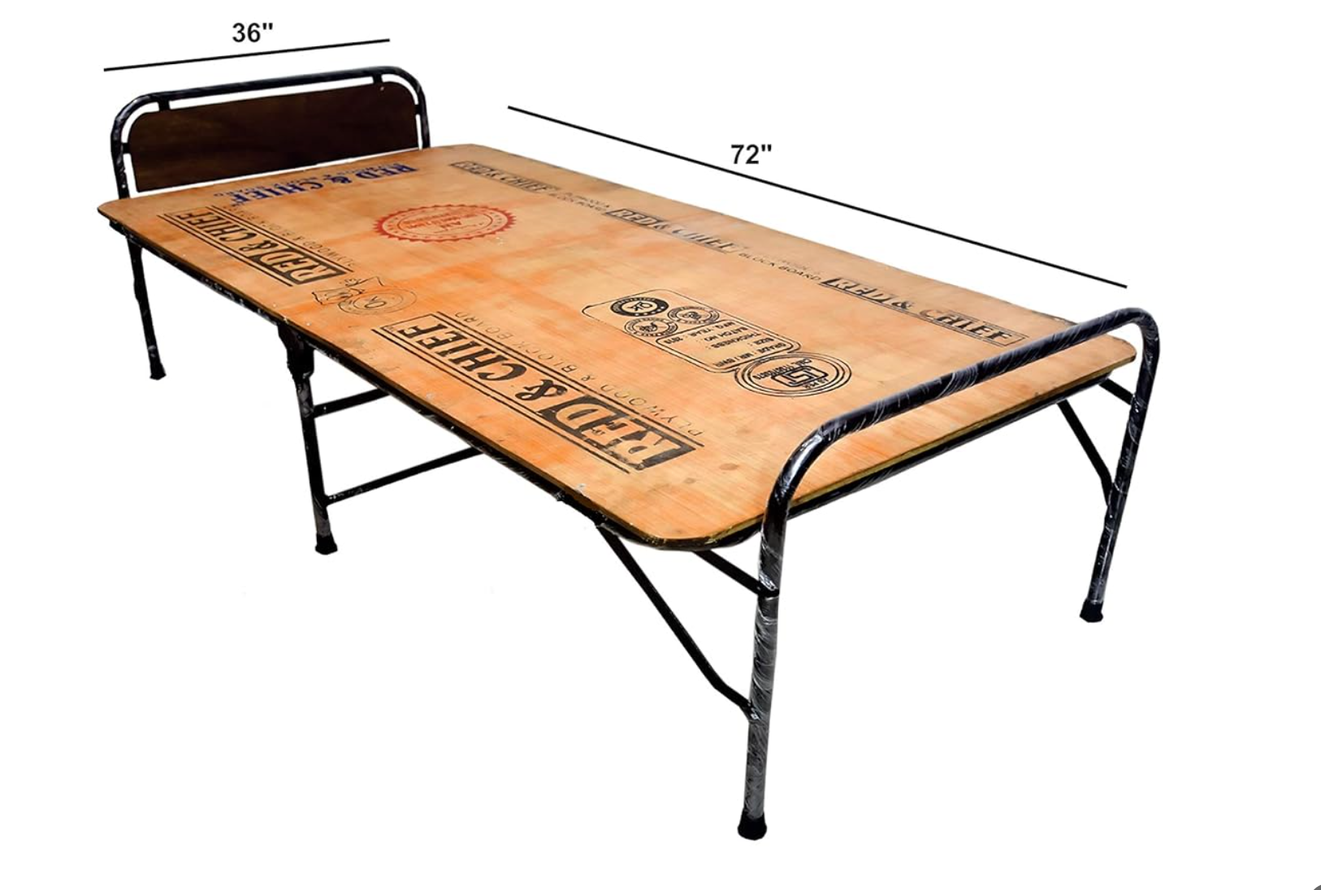cot: (75, 55, 1170, 846)
